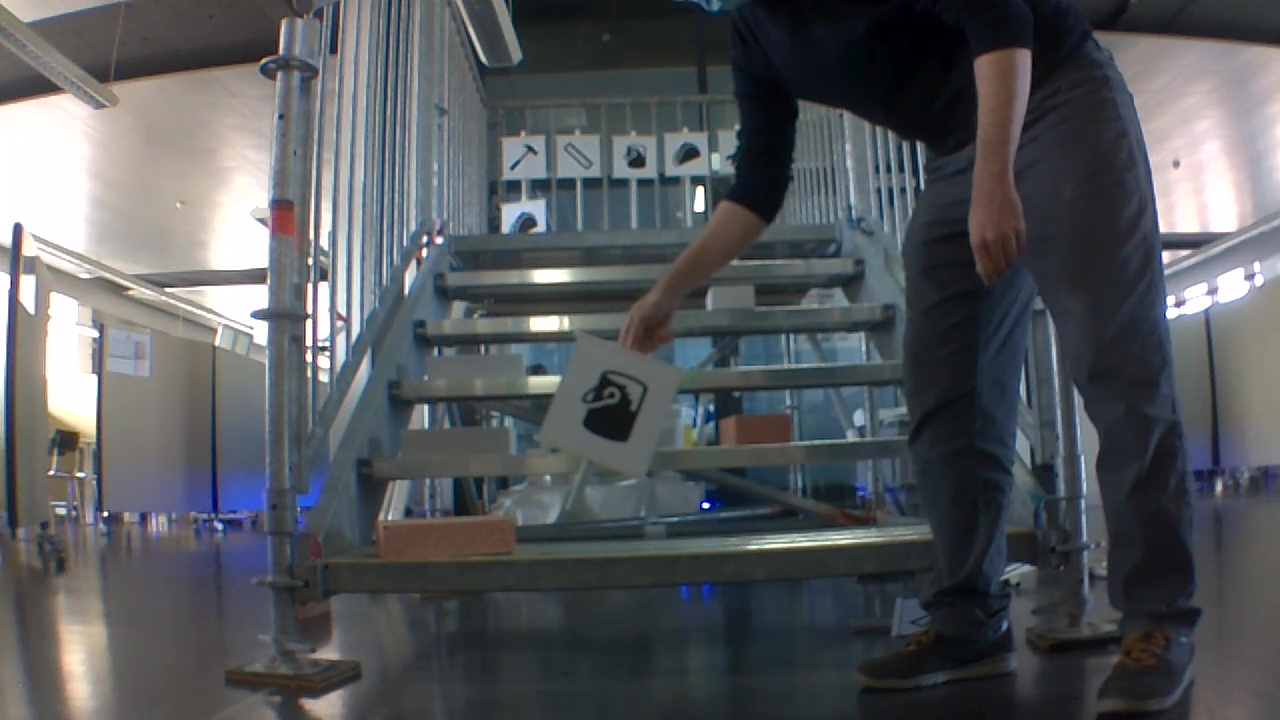brick: (378, 516, 515, 559), (403, 425, 516, 455), (430, 353, 523, 378), (722, 414, 793, 445), (710, 286, 755, 309)
bucket: (575, 361, 654, 447), (620, 138, 650, 170)
edge: (325, 531, 1039, 593)
hammer: (503, 139, 538, 175)
ruler: (558, 135, 598, 173)
taco: (667, 140, 701, 169), (505, 208, 537, 234)
